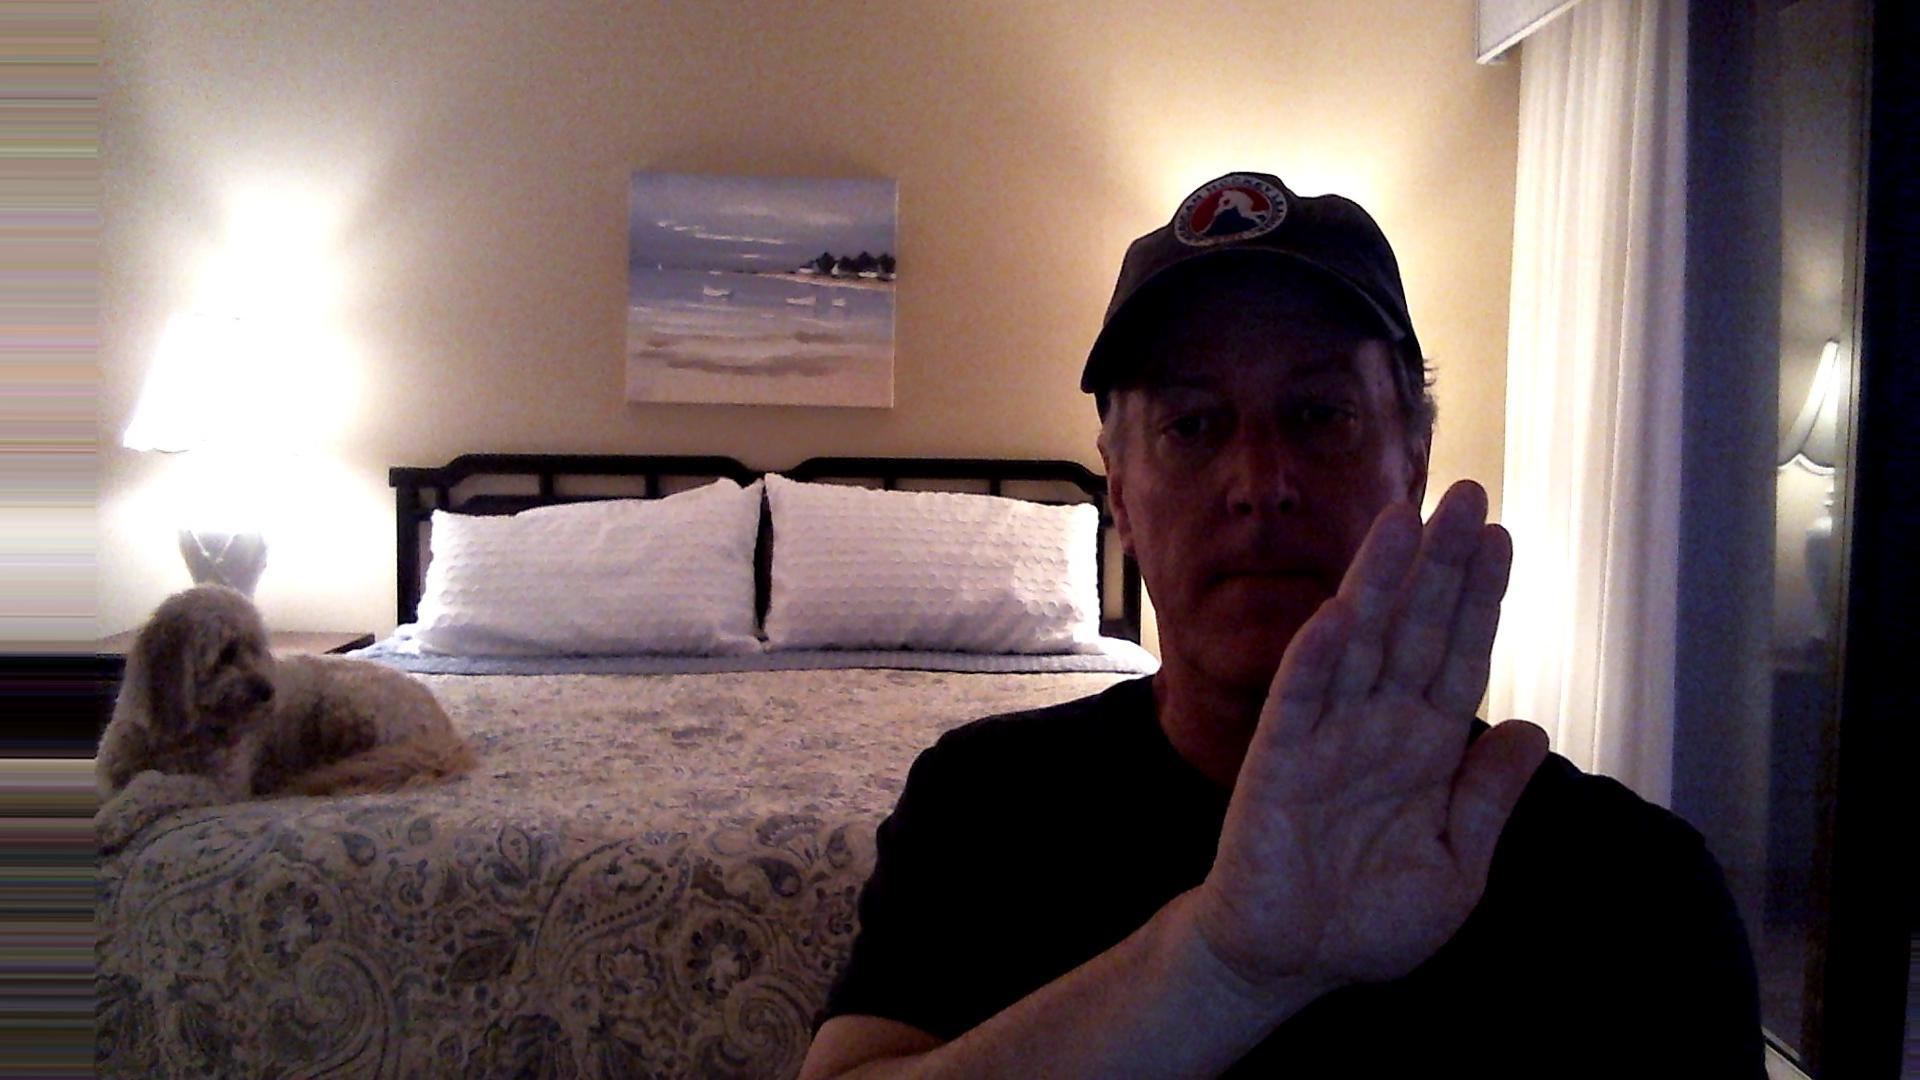Hello: (1205, 467, 1565, 997)
